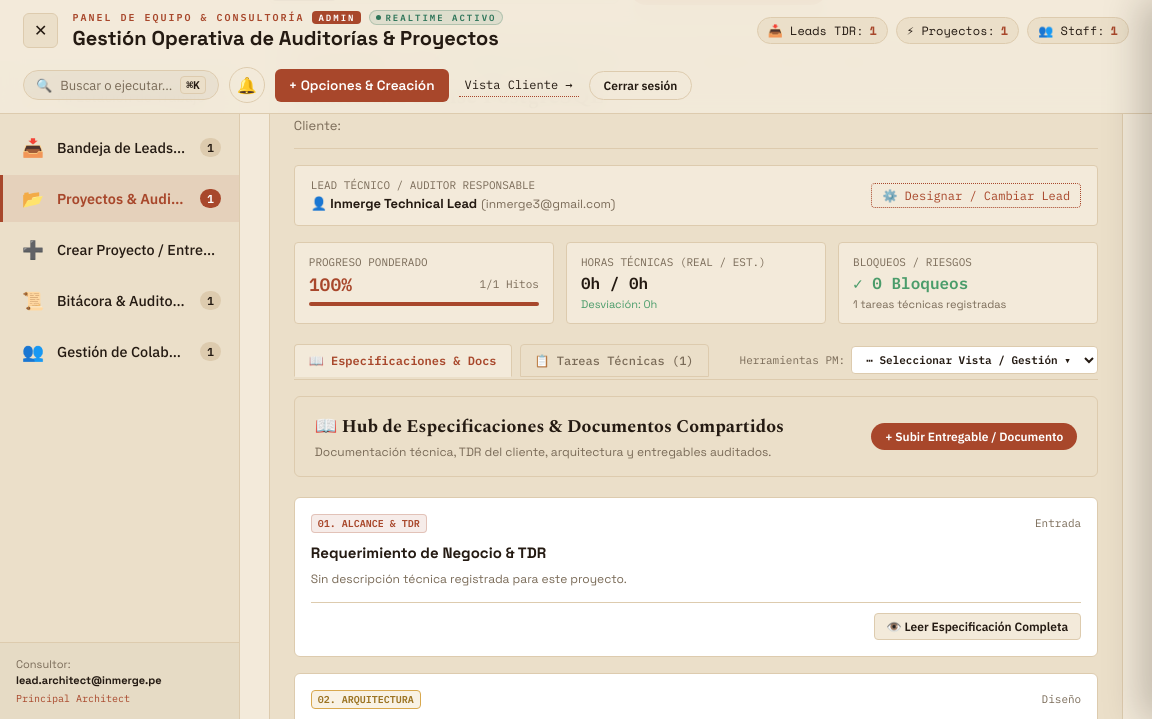
Test: Equipo Console Component › aplica parches delta reactivos para tareas, entregables y hallazgos sin consultar la red
The width and height of the screenshot is (1152, 719).
(page scrolled)
Select "🔍 Hallazgos de Auditoría (1)" in the dropdown named "Seleccionar herramienta avanzada de proyecto" at (975,360), box [851,346,1098,374]
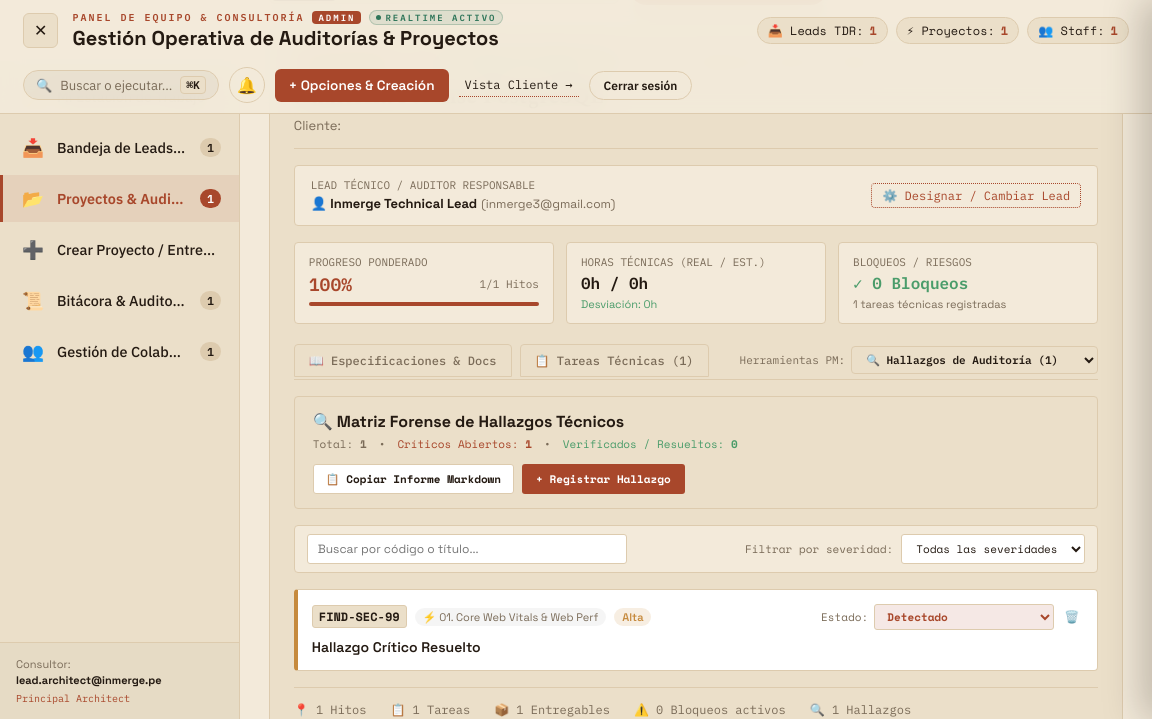
Now the text "FIND-SEC-99" is shown, box [312,605,407,628]
Now the text "Hallazgo Crítico Resuelto" is shown, box [312,638,481,656]
